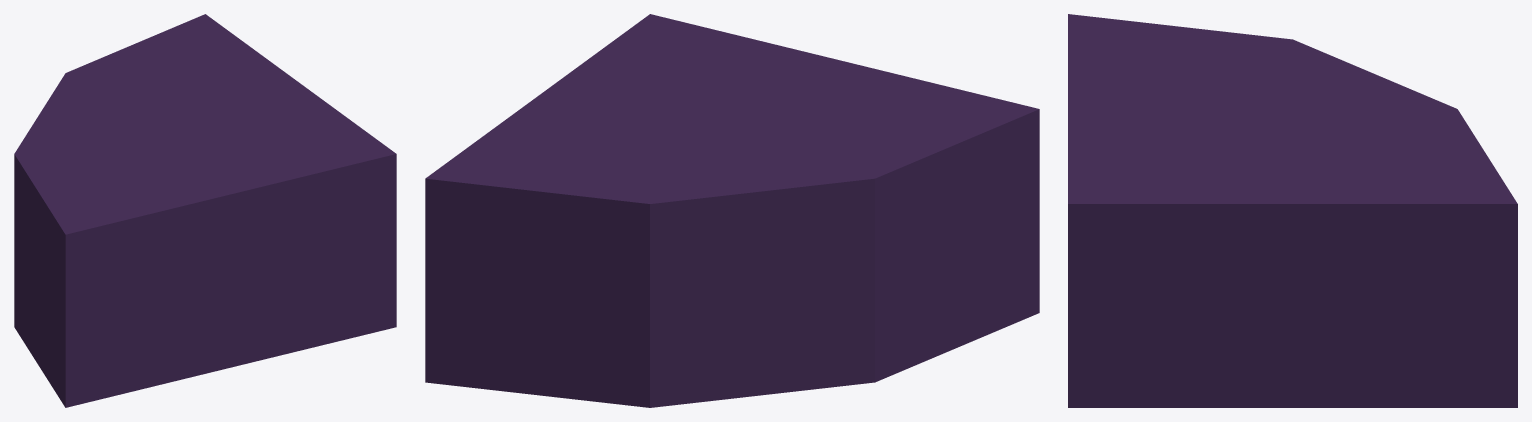
File: SM_ground_largecorner_R.fbx
The picture shows the model from 3 angles, left to right: view 1: azimuth 30°, elevation 25°; view 2: azimuth 150°, elevation 25°; view 3: azimuth 270°, elevation 25°; orthographic projection. The views are drawn at different scales.
Visible parts, largest first — view 1: largecorner_R; view 2: largecorner_R; view 3: largecorner_R.
Part boxes in pixels (bbox=[...]): largecorner_R: bbox=[14, 14, 396, 407]; largecorner_R: bbox=[425, 14, 1039, 407]; largecorner_R: bbox=[1068, 14, 1517, 407].
Size of the model in its own units: 100 by 50 by 100.
